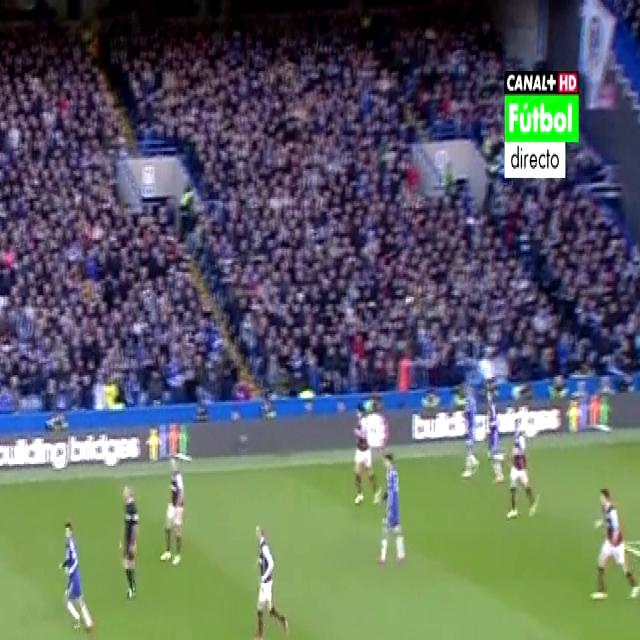referee: (113, 476, 146, 612)
soccer-player: (587, 476, 640, 612), (242, 514, 290, 640), (53, 511, 100, 639), (498, 412, 540, 531), (370, 454, 410, 578), (158, 457, 190, 576), (346, 402, 378, 514), (457, 378, 488, 488)
